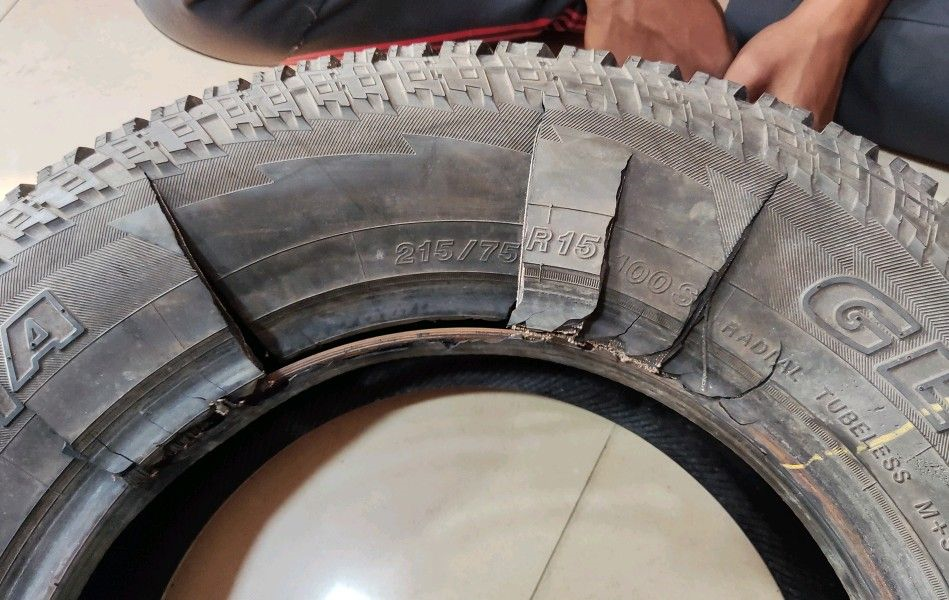bead_damage: (3, 87, 796, 507)
